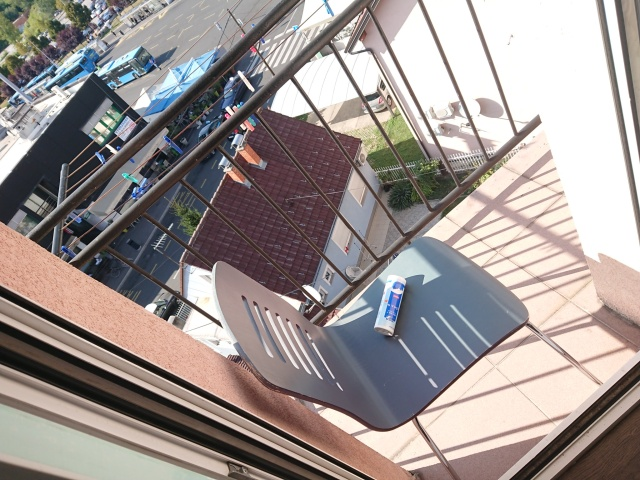Solana Pag Fine Sea Salt 250g: (372, 272, 408, 340)
